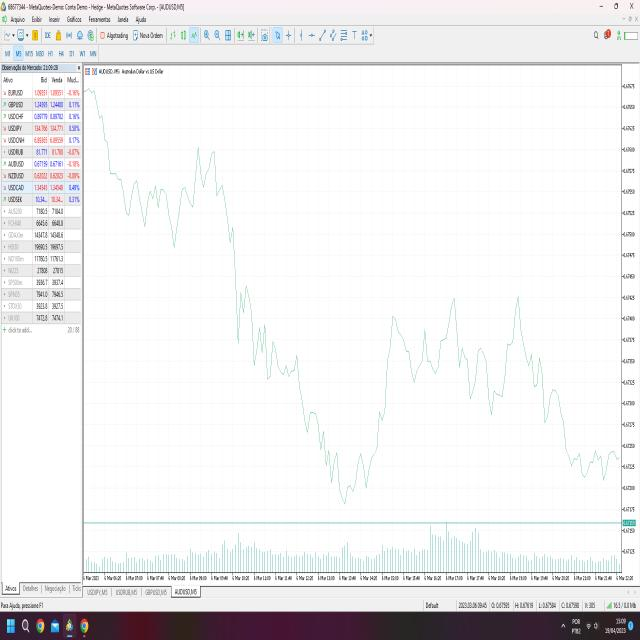bandeira_baixa: (224, 200, 276, 390)
